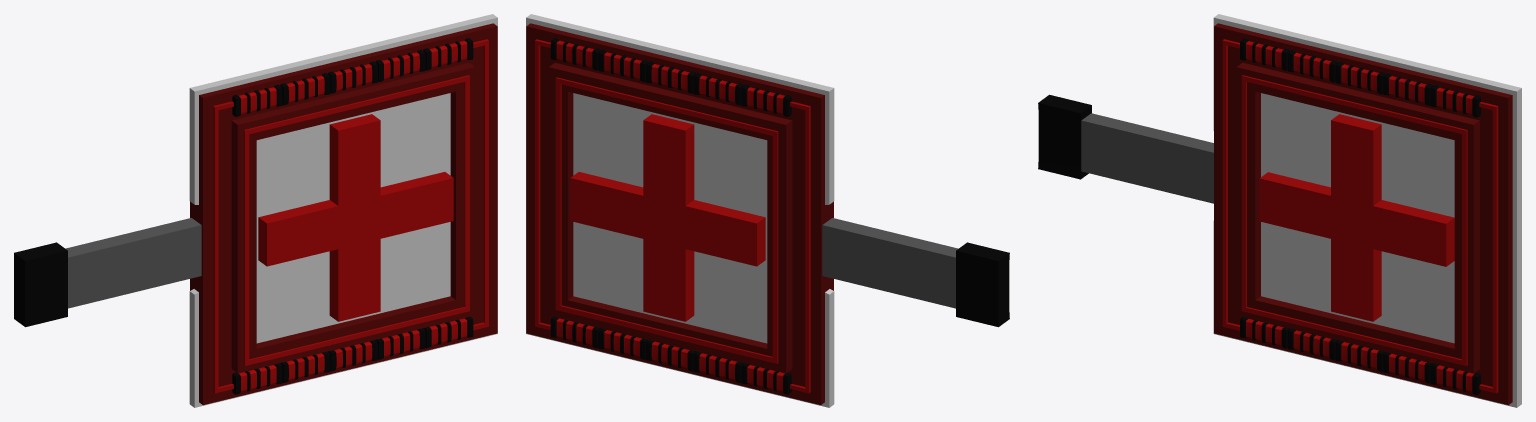
Rendered from eczaneTabela.FBX.
The picture shows the model from 3 angles, left to right: view 1: azimuth 30°, elevation 25°; view 2: azimuth 150°, elevation 25°; view 3: azimuth 330°, elevation 25°; orthographic projection.
Visible parts, largest first — view 1: sign, lights; view 2: sign, lights; view 3: sign, lights.
Boxes of the visible parts, x1,y1,x2,y2 form: sign: (14,14,497,407); lights: (232,38,473,394); sign: (526,14,1009,407); lights: (550,38,791,394); sign: (1038,14,1521,407); lights: (1240,38,1480,394).
Bounding box in the file's own units: 3.39 × 2.16 × 0.3881.
